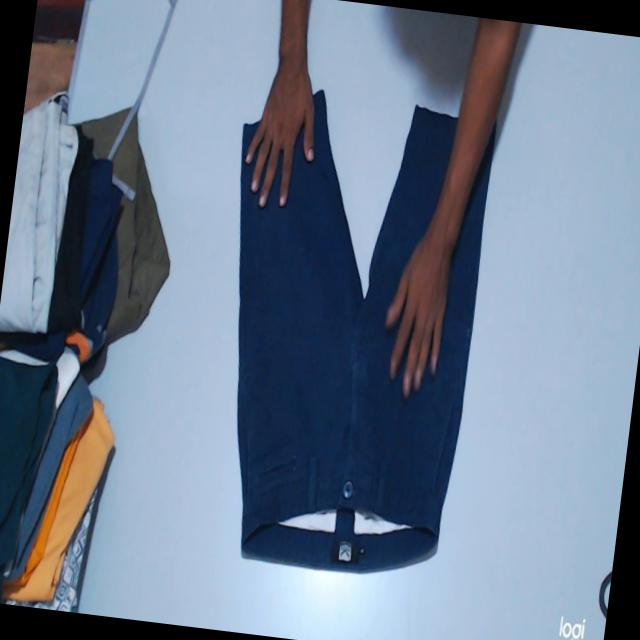new-garment: (237, 90, 493, 571)
